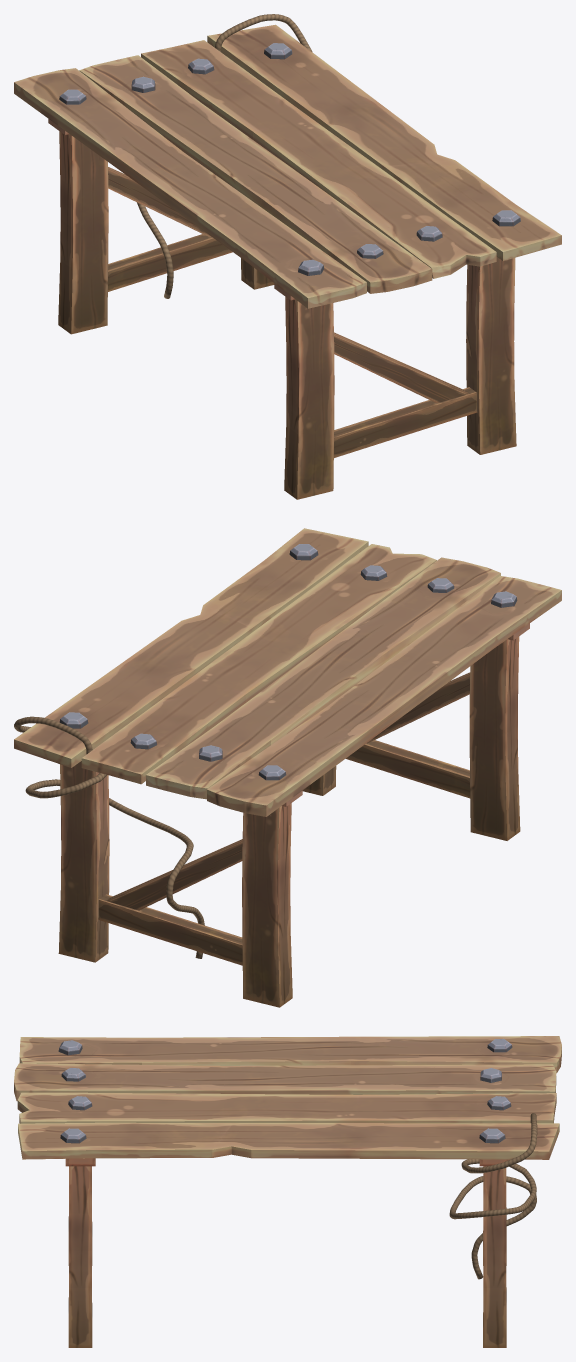
The model's file is SM_Table_01.fbx.
3 renders of one model, top to bottom at view 1: azimuth 30°, elevation 25°; view 2: azimuth 150°, elevation 25°; view 3: azimuth 270°, elevation 25°, orthographic. The views are drawn at different scales.
Visible parts, largest first — view 1: SM_Table_01_LOD0; view 2: SM_Table_01_LOD0; view 3: SM_Table_01_LOD0.
Part boxes in pixels (<box>): SM_Table_01_LOD0: <box>14,14,561,499</box>; SM_Table_01_LOD0: <box>14,528,561,1007</box>; SM_Table_01_LOD0: <box>14,1036,561,1347</box>.
Size of the model in its own units: 121 by 234 by 106.
1 material, 1 textured.
